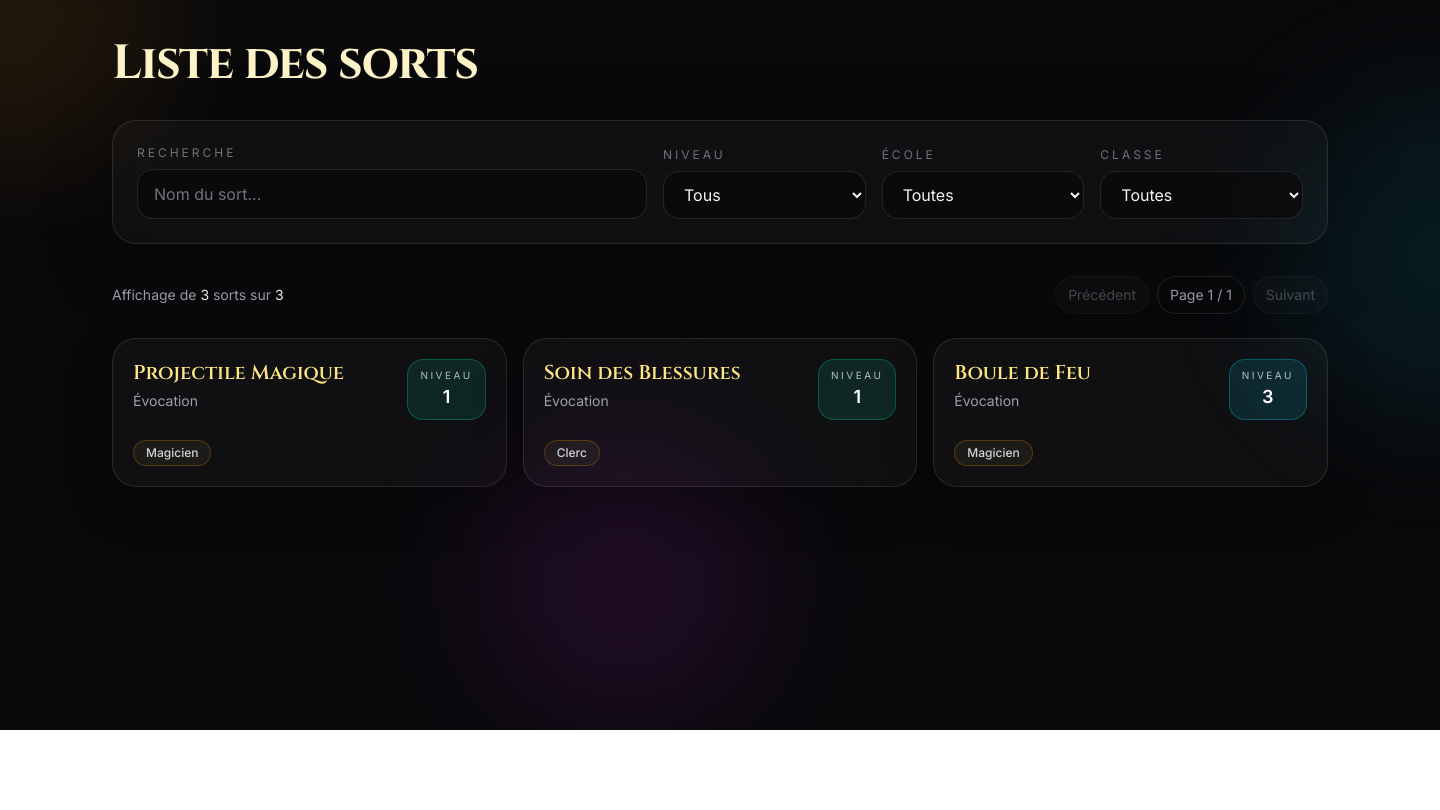
it: SortsListView filtering › filters by search text (case-insensitive)
The width and height of the screenshot is (1440, 810).
Type "boule" into the search field with placeholder "Nom du sort..." at (392, 194), box [137,169,647,219]
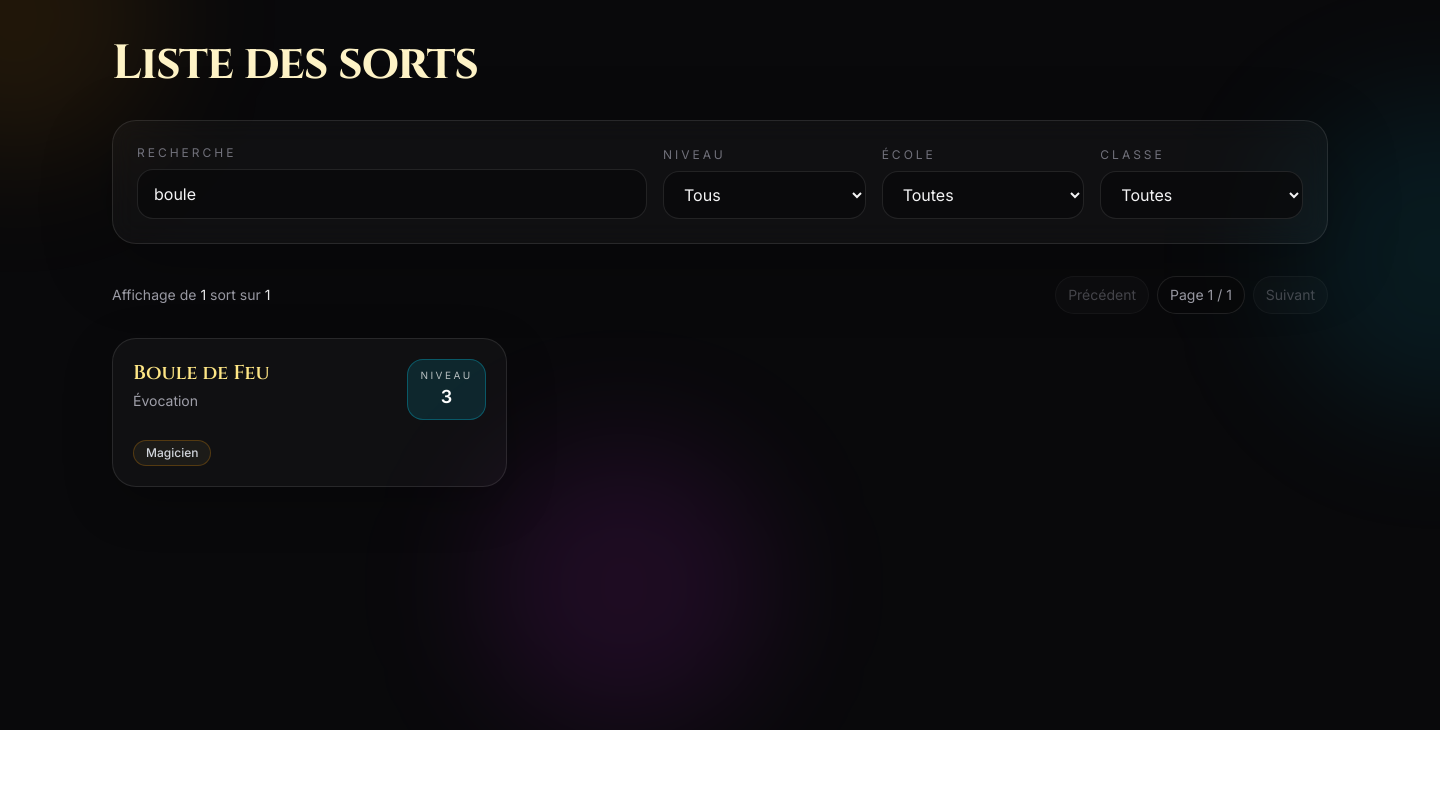
Check: the text "Boule de Feu" is shown, box [133,359,270,387]
Check: the text "Projectile Magique" is gone
